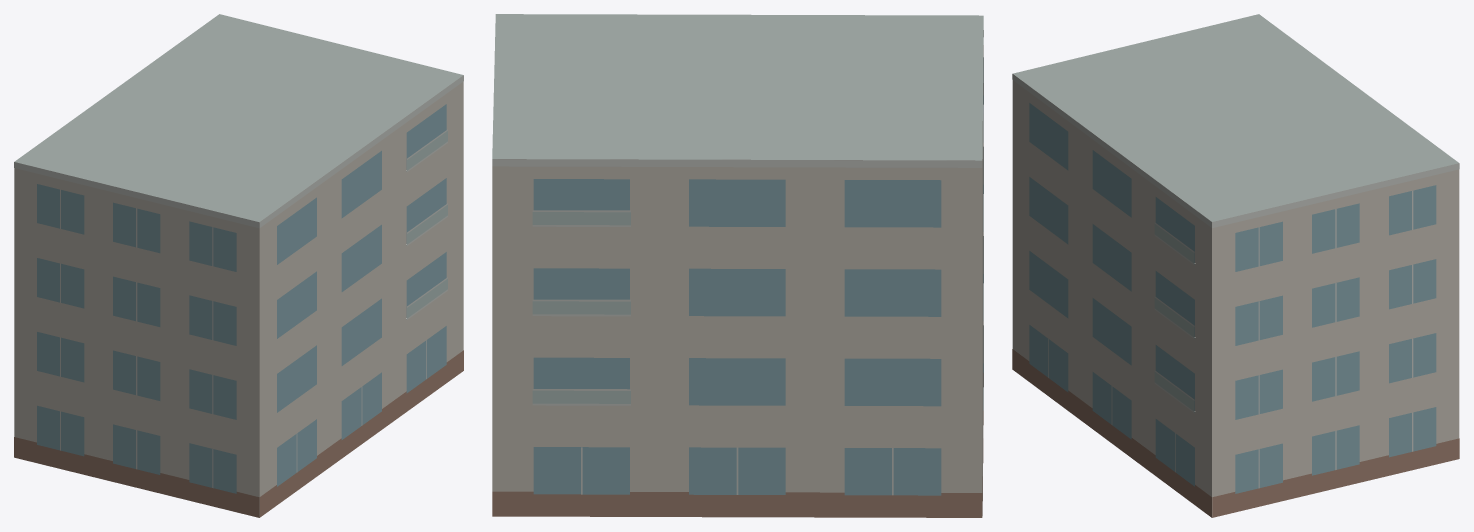
File: survey-upis-32714507.glb
3 views of the same model, side by side, from view 1: azimuth 30°, elevation 25°; view 2: azimuth 150°, elevation 25°; view 3: azimuth 270°, elevation 25° (orthographic). The views are drawn at different scales.
Visible parts, largest first — view 1: survey-upis-32714507.tmp; view 2: survey-upis-32714507.tmp; view 3: survey-upis-32714507.tmp.
Boxes of the visible parts, x1=… form: survey-upis-32714507.tmp: x1=14, y1=14, x2=463, y2=517; survey-upis-32714507.tmp: x1=492, y1=14, x2=983, y2=517; survey-upis-32714507.tmp: x1=1012, y1=14, x2=1459, y2=517.
Bounding box in the file's own units: 17.73 × 11.75 × 16.1.
